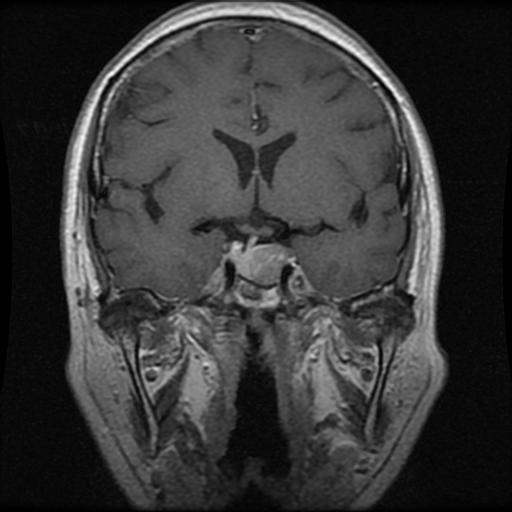Pituirity_tumour: (225, 235, 294, 285)
